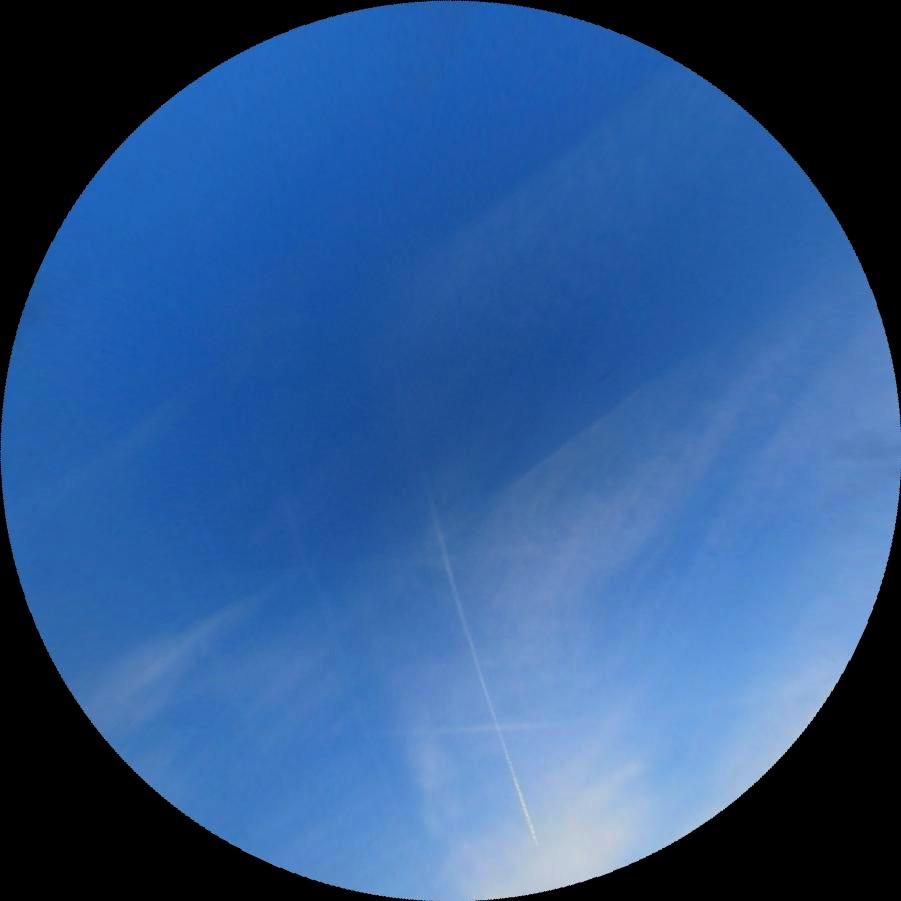contrail veryold: (279, 514, 394, 770), (373, 722, 563, 739)
contrail young: (414, 465, 536, 854), (193, 513, 267, 670)
